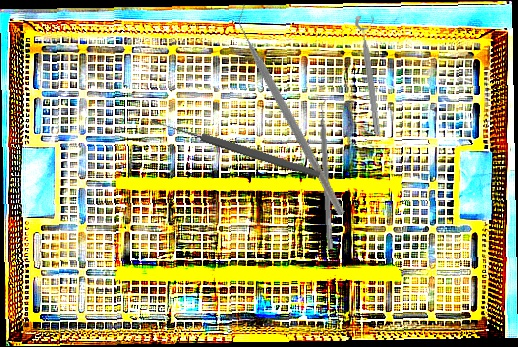Chopper: (175, 1, 411, 218)
Fixation Ring: (354, 13, 391, 137)
Spatula Surgical: (316, 99, 341, 250)
Surgical Spoon: (150, 115, 322, 180)
